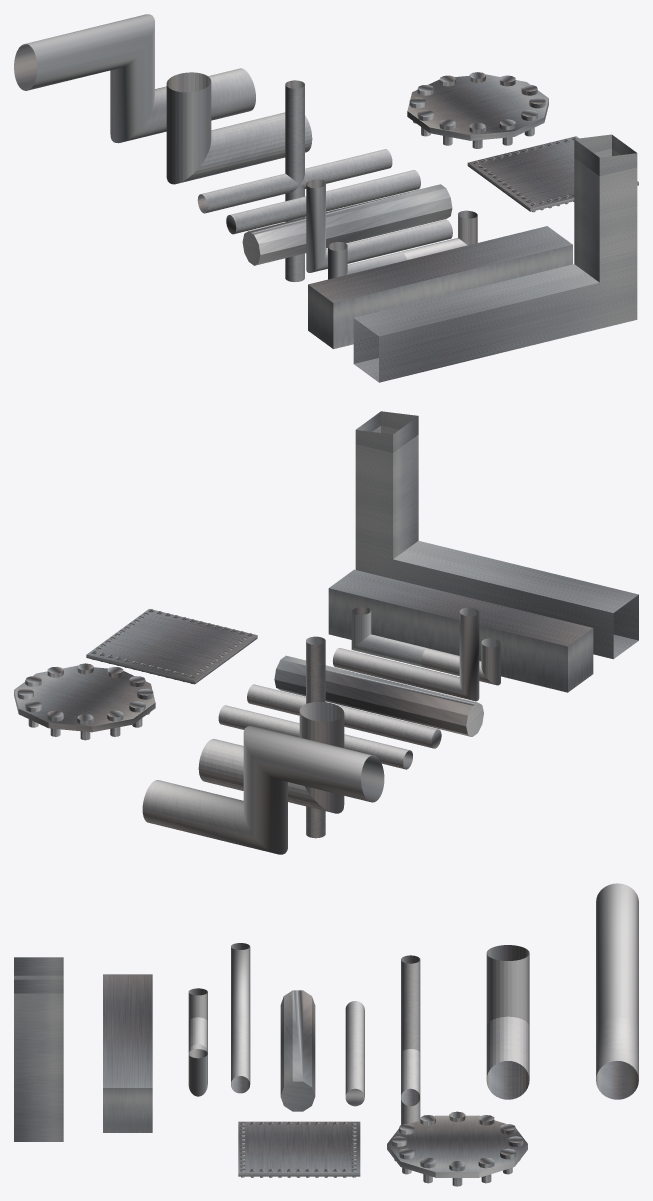
Rendered from tubes.glb.
3 renders of one model, top to bottom at view 1: azimuth 30°, elevation 25°; view 2: azimuth 150°, elevation 25°; view 3: azimuth 270°, elevation 25°, orthographic. The views are drawn at different scales.
Size of the model in its own units: 1.6 by 0.8629 by 2.05.
1 material, 1 textured.
